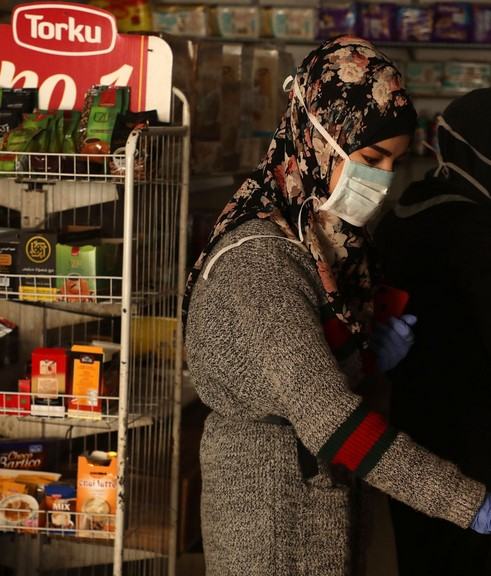face_with_mask: (279, 48, 419, 228)
